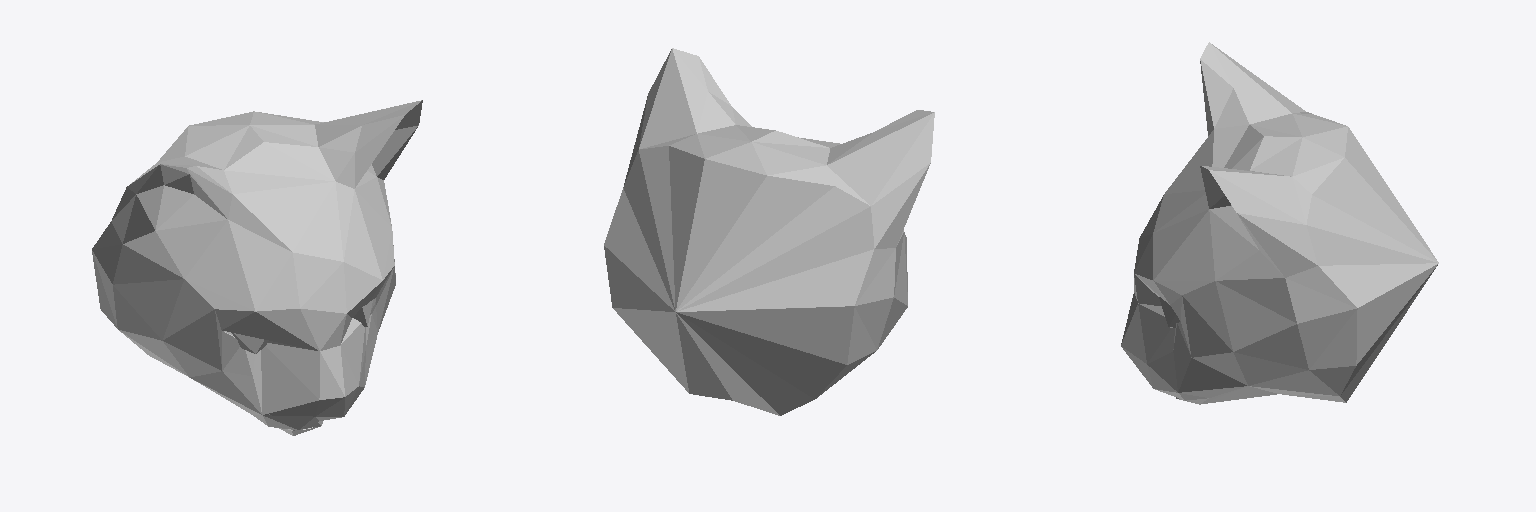
Rendered from cat.obj.
The picture shows the model from 3 angles: view 1: azimuth 30°, elevation 25°; view 2: azimuth 150°, elevation 25°; view 3: azimuth 270°, elevation 25°; orthographic projection.
Parts seen in each view (by area): view 1: grp1; view 2: grp1; view 3: grp1.
Boxes of the visible parts, box(x1,y1,x2,y2) form: grp1: box(92, 100, 422, 435); grp1: box(604, 48, 934, 415); grp1: box(1121, 42, 1438, 404).
Size of the model in its own units: 118 by 120 by 115.